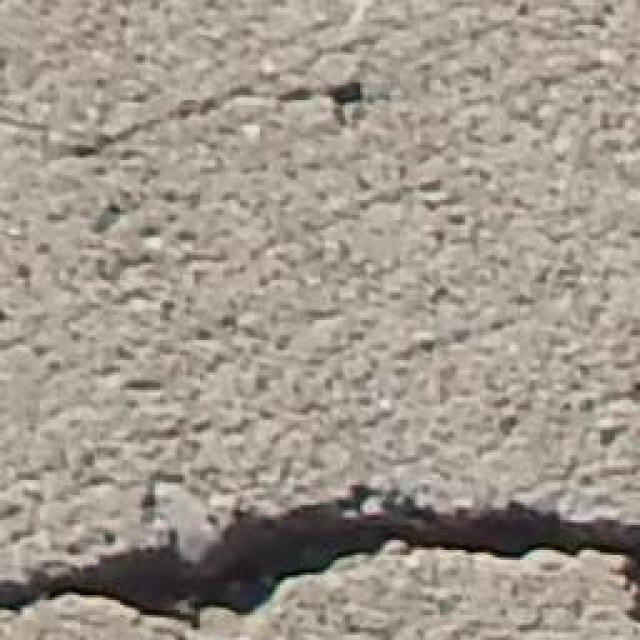concrete-crack: (2, 484, 640, 633), (70, 71, 373, 156)
